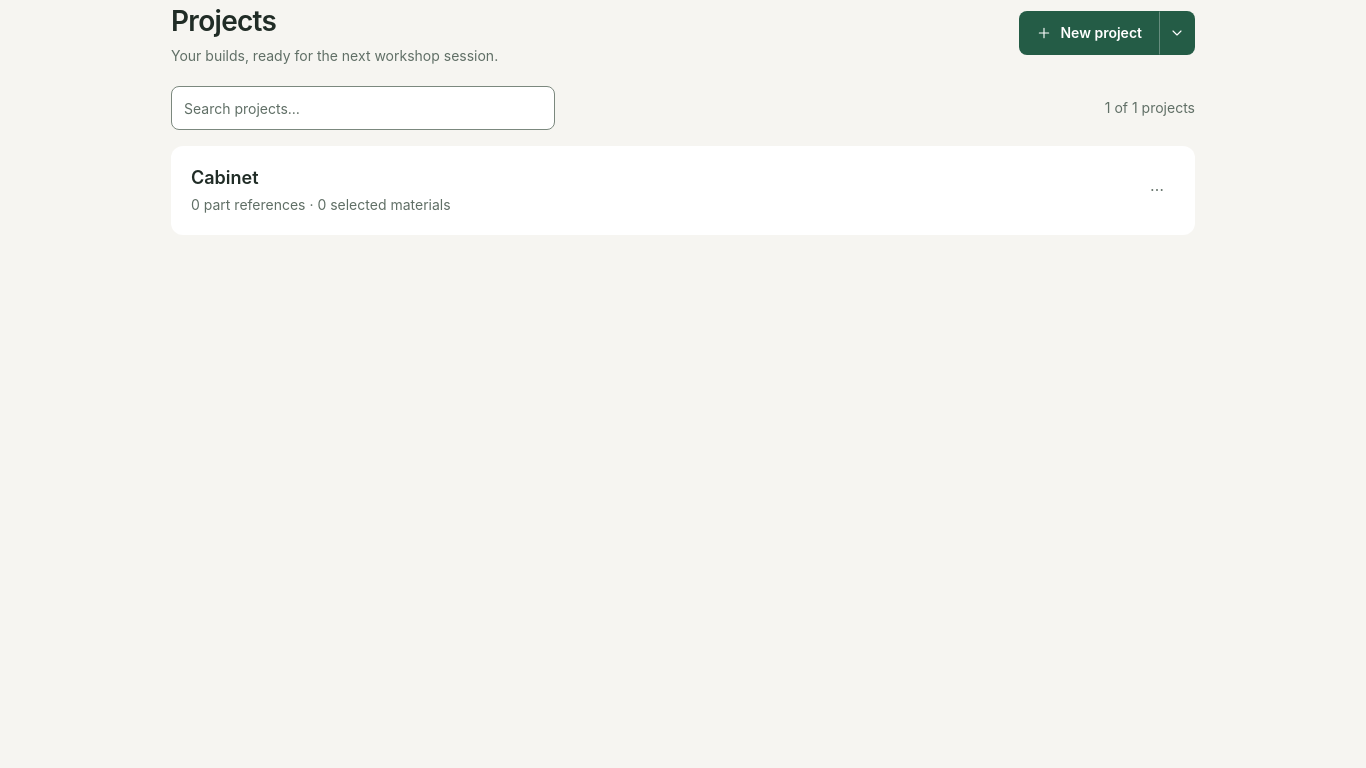
Test: Project manager › edits both metadata fields using a fresh record without replacing parts, catalog selections or panel quantities
This screenshot has width=1366, height=768.
Click the button named "Actions for Cabinet".
click(1157, 190)  # box x1=1139 y1=172 x2=1175 y2=208
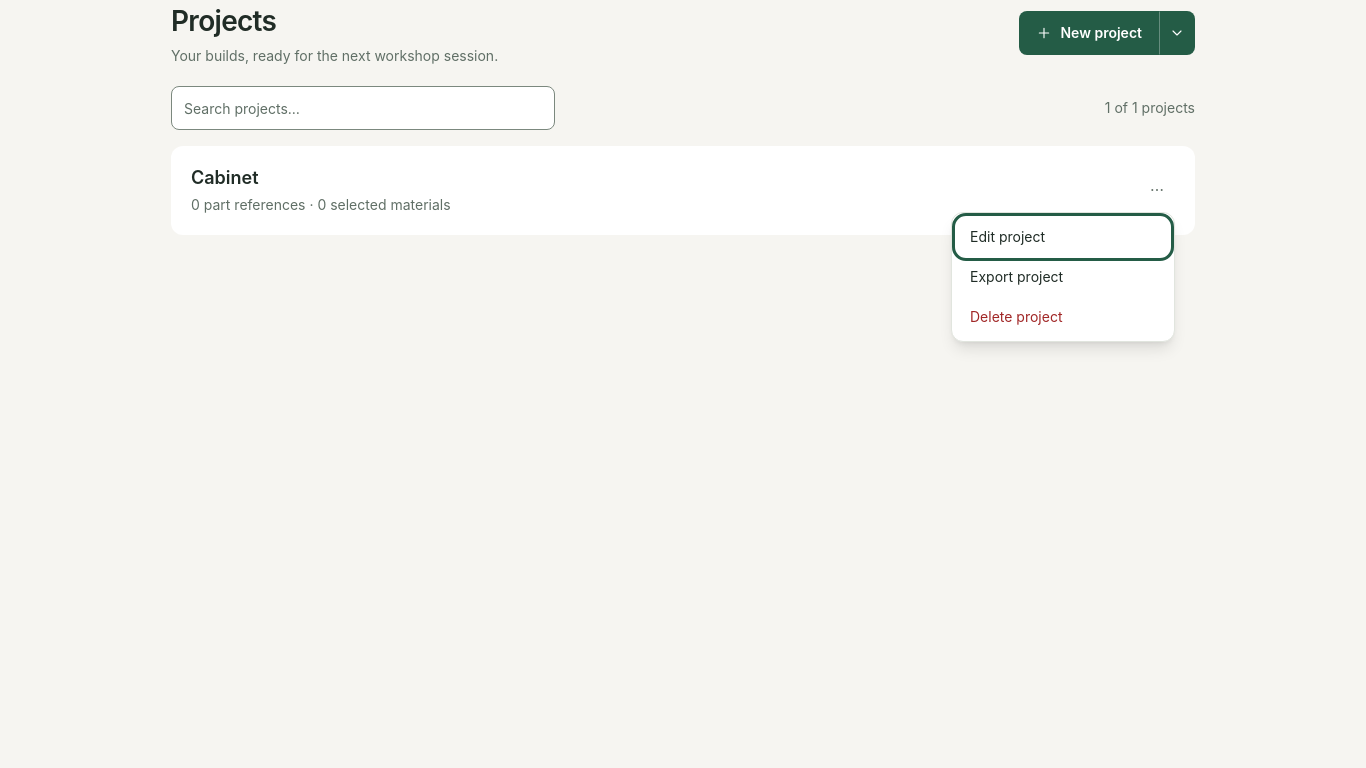
Click the menu item "Edit project".
click(1063, 237)  # box x1=958 y1=219 x2=1168 y2=255
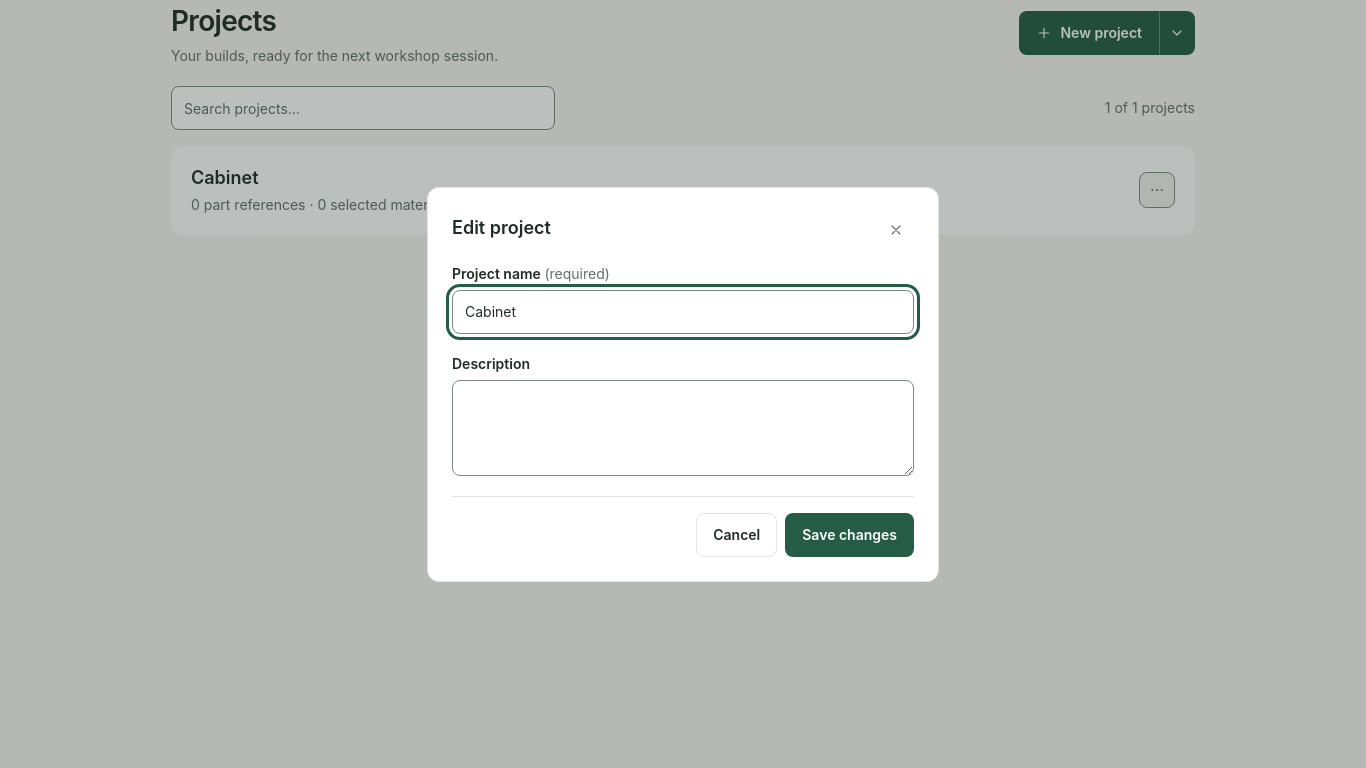
Replace the text in the field labelled "Project name (required)" with "  Updated cabinet  " at point(683, 312), box x1=452 y1=290 x2=914 y2=334
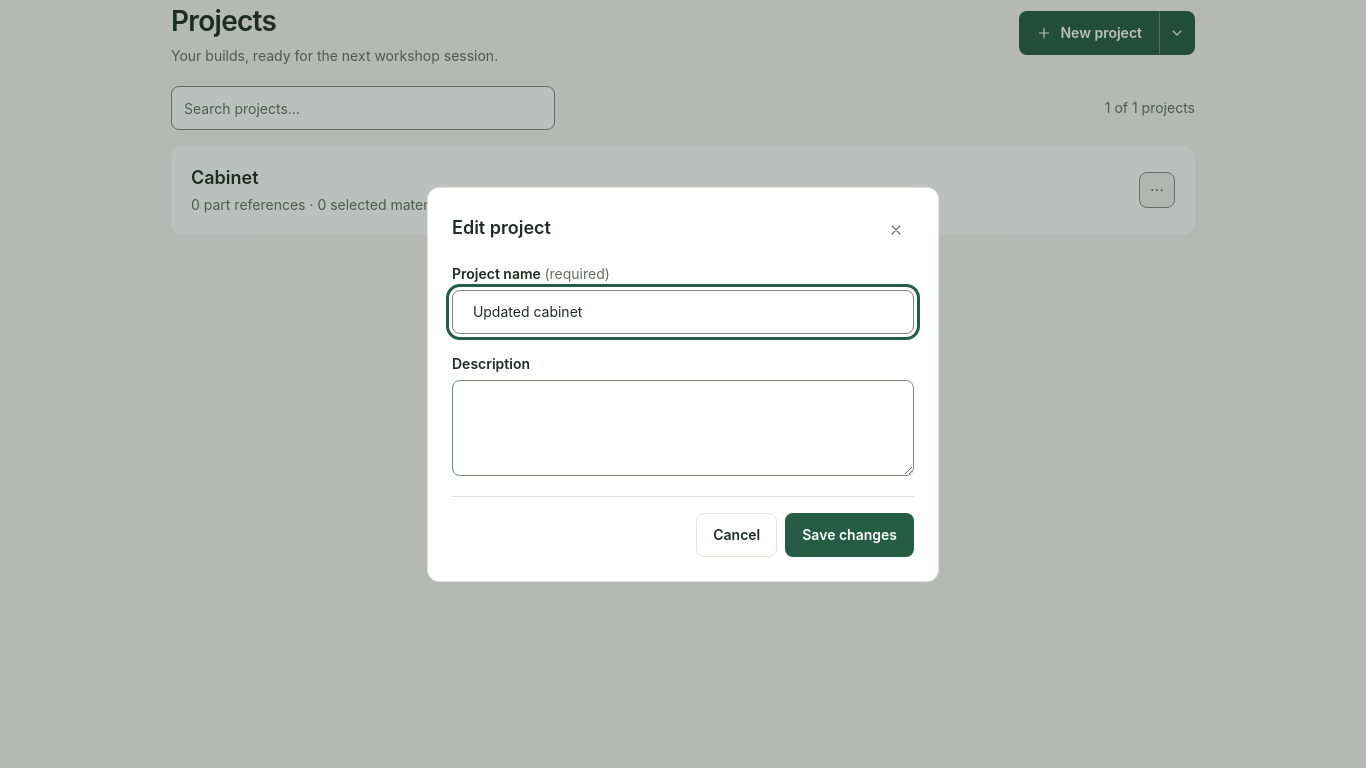
Type " Updated description " into the text box labelled "Description".
click(683, 428); type(" Updated description ")  # box x1=452 y1=380 x2=914 y2=476
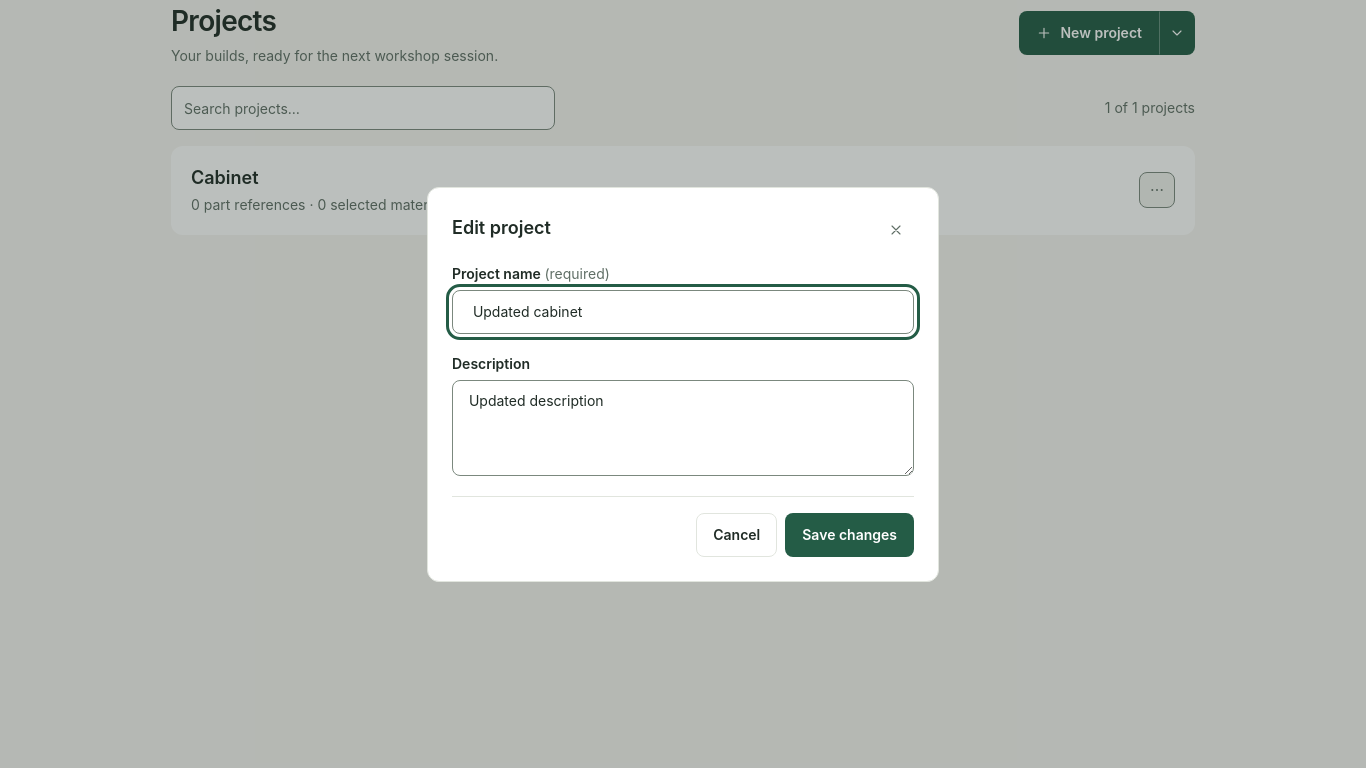
Submit the form, box x1=452 y1=264 x2=914 y2=556
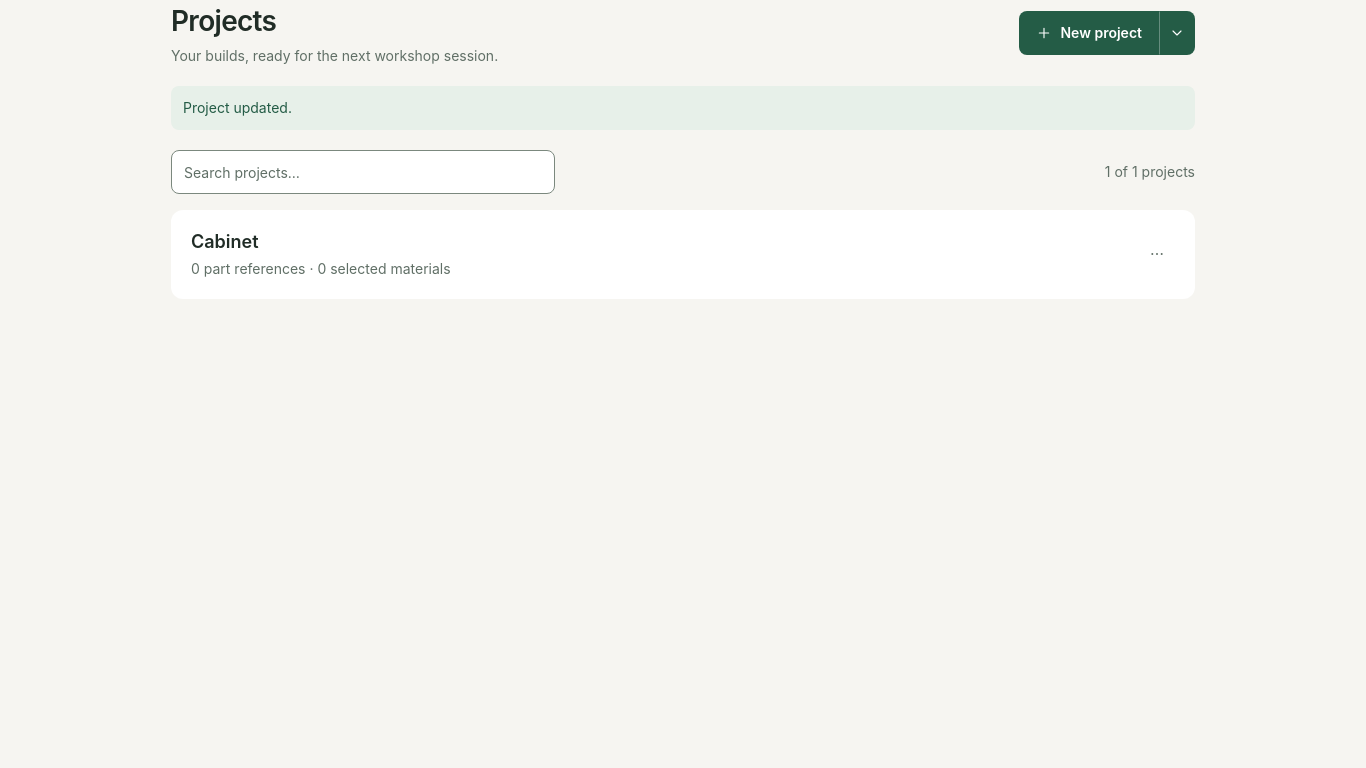
Now the text "Project updated." is shown, box x1=171 y1=86 x2=1195 y2=130
